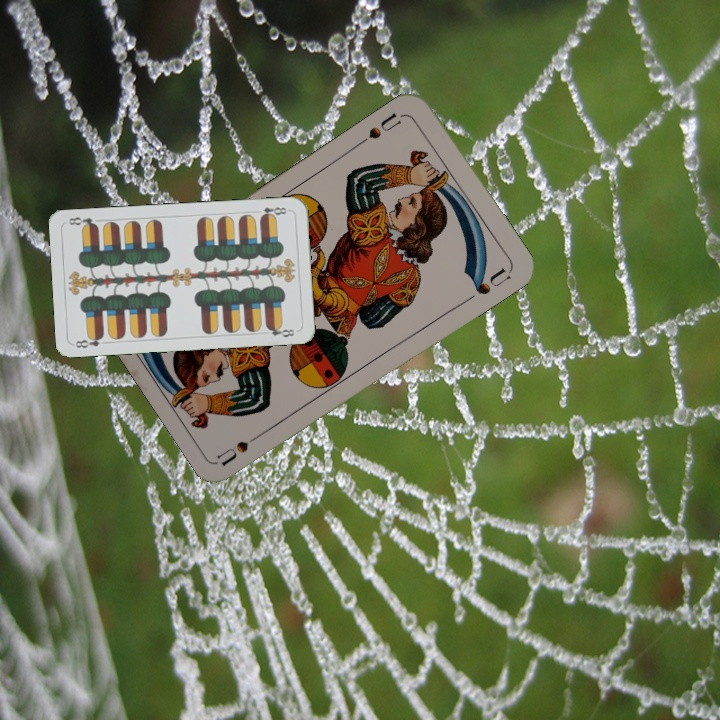E8: (251, 203, 292, 221), (71, 331, 106, 351)
SU: (214, 426, 270, 468), (355, 109, 408, 148)
